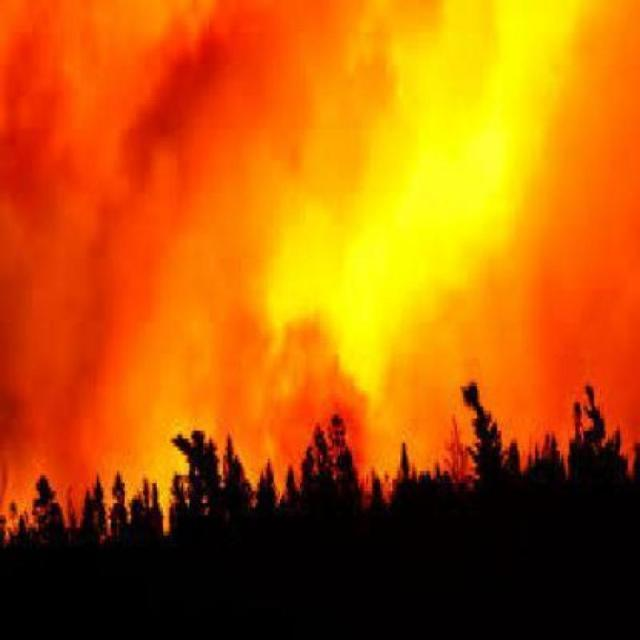Fire: (3, 247, 640, 538)
